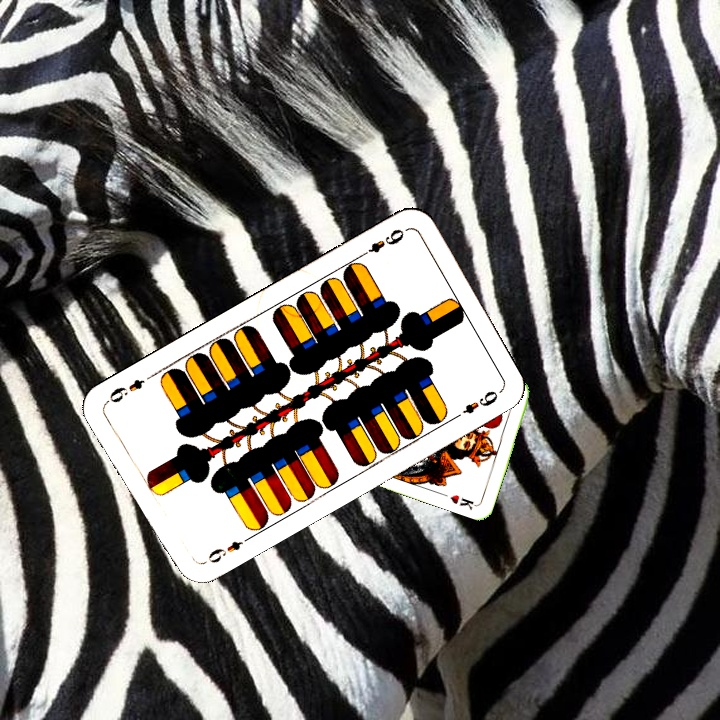E9: (197, 533, 252, 568), (355, 225, 407, 261)
